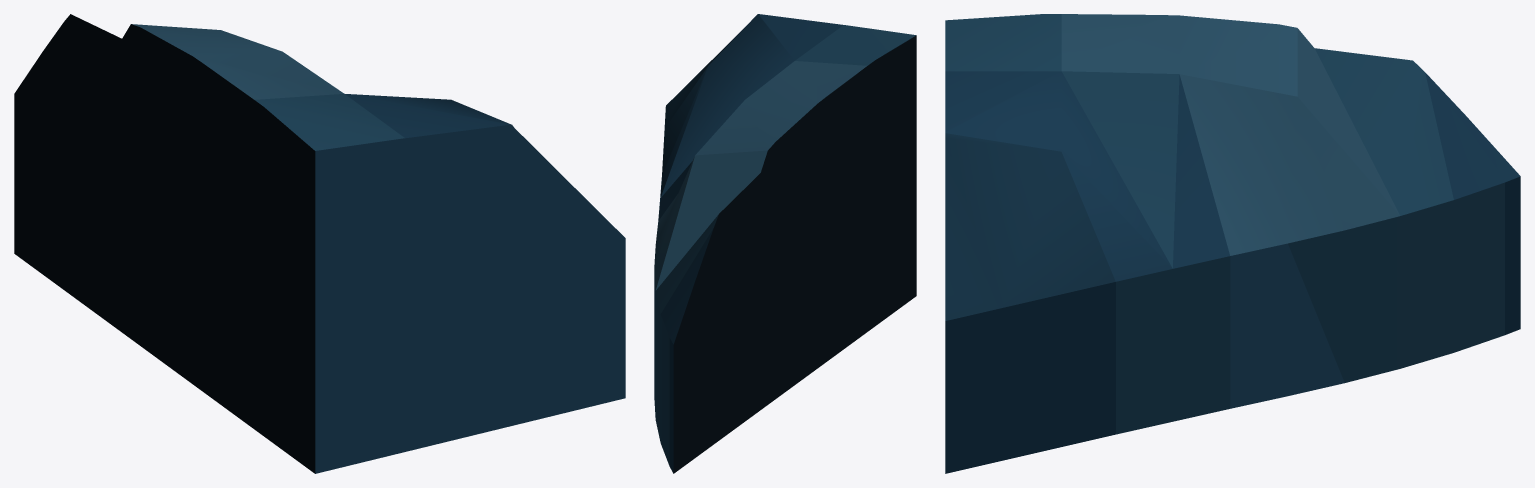
Rendered from gryphon_3.glb.
The picture shows the model from 3 angles, left to right: view 1: azimuth 30°, elevation 25°; view 2: azimuth 150°, elevation 25°; view 3: azimuth 270°, elevation 25°; orthographic projection. The views are drawn at different scales.
Visible parts, largest first — view 1: gryphon_3_gbody; view 2: gryphon_3_gbody; view 3: gryphon_3_gbody.
Boxes of the visible parts, x1,y1,x2,y2 form: gryphon_3_gbody: [14, 14, 625, 473]; gryphon_3_gbody: [654, 14, 916, 473]; gryphon_3_gbody: [945, 14, 1520, 473].
Size of the model in its own units: 2.03 by 2.06 by 3.41.
